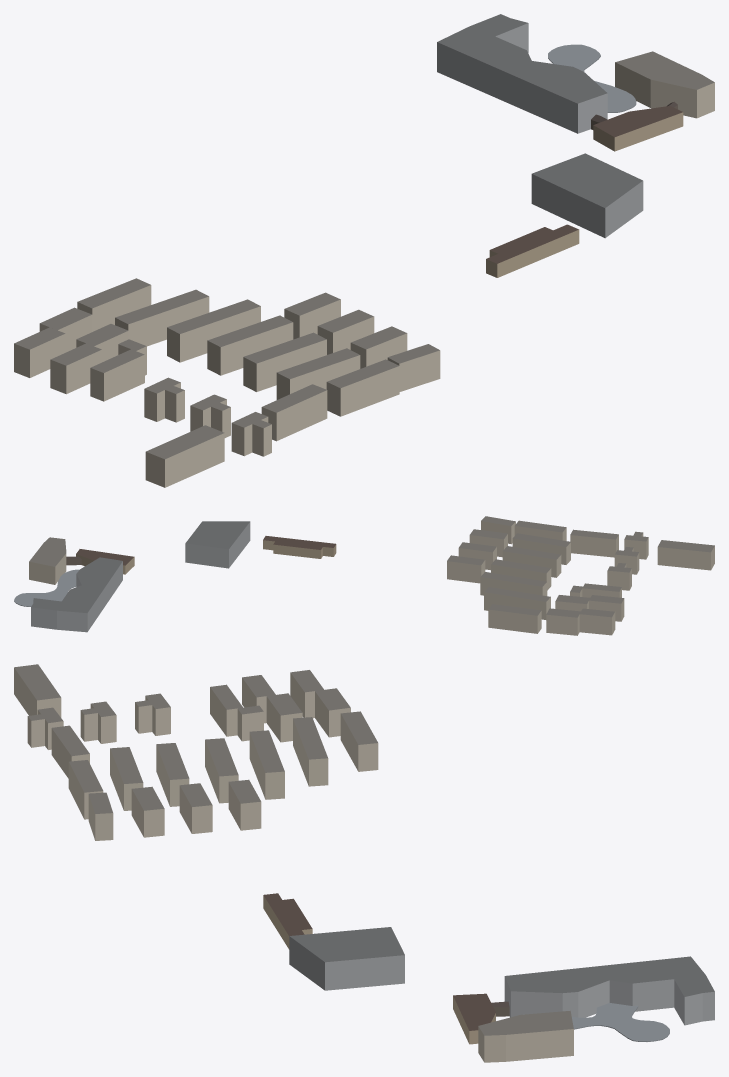
File: tile_4_0.glb
3 views of the same model, one above another, from view 1: azimuth 30°, elevation 25°; view 2: azimuth 150°, elevation 25°; view 3: azimuth 270°, elevation 25° (orthographic). The views are drawn at different scales.
Visible parts, largest first — view 1: HP-w490656161, HP-w985832361, HP-w490656158, HP-w859488670, HP-w859488684, HP-w859488676, HP-w859488683, HP-w859488685, HP-w496382750, HP-w859488682, HP-w490656159, HP-w859488669 (+15 smaller); view 2: HP-w490656161, HP-w985832361, HP-w859488670, HP-w490656158, HP-w859488686, HP-w496382750, HP-w859488685, HP-w859488677, HP-w859488684, HP-w859488682, HP-w859488681, HP-w859488683 (+15 smaller); view 3: HP-w490656161, HP-w985832361, HP-w490656158, HP-w490656165, HP-w859488669, HP-w859488685, HP-w859488684, HP-w859488670, HP-w859488686, HP-w496382750, HP-w859488683, HP-w859488682 (+15 smaller).
Boxes of the visible parts, left/top/right/bottom form: HP-w490656161: left=437, top=14, right=607, bottom=133; HP-w985832361: left=531, top=153, right=643, bottom=238; HP-w490656158: left=615, top=51, right=714, bottom=118; HP-w859488670: left=145, top=425, right=224, bottom=487; HP-w859488684: left=167, top=299, right=260, bottom=362; HP-w859488676: left=326, top=359, right=399, bottom=416; HP-w859488683: left=207, top=315, right=293, bottom=375; HP-w859488685: left=115, top=289, right=209, bottom=346; HP-w496382750: left=486, top=224, right=579, bottom=277; HP-w859488682: left=243, top=332, right=326, bottom=391; HP-w490656159: left=593, top=106, right=683, bottom=151; HP-w859488669: left=90, top=339, right=146, bottom=401; HP-w490656161: left=31, top=557, right=122, bottom=632; HP-w985832361: left=185, top=521, right=250, bottom=568; HP-w859488670: left=657, top=540, right=714, bottom=570; HP-w490656158: left=29, top=537, right=66, bottom=584; HP-w859488686: left=488, top=604, right=541, bottom=633; HP-w496382750: left=263, top=536, right=336, bottom=558; HP-w859488685: left=484, top=587, right=550, bottom=619; HP-w859488677: left=570, top=529, right=618, bottom=557; HP-w859488684: left=480, top=572, right=547, bottom=595; HP-w859488682: left=502, top=546, right=561, bottom=577; HP-w859488681: left=512, top=533, right=570, bottom=564; HP-w859488683: left=491, top=559, right=551, bottom=590; HP-w490656161: left=504, top=956, right=714, bottom=1025; HP-w985832361: left=289, top=927, right=404, bottom=990; HP-w490656158: left=478, top=1010, right=573, bottom=1062; HP-w490656165: left=523, top=1003, right=669, bottom=1041; HP-w859488669: left=210, top=684, right=263, bottom=741; HP-w859488685: left=293, top=717, right=328, bottom=786; HP-w859488684: left=249, top=730, right=284, bottom=799; HP-w859488670: left=14, top=664, right=61, bottom=717; HP-w859488686: left=340, top=711, right=378, bottom=771; HP-w496382750: left=263, top=893, right=312, bottom=949; HP-w859488683: left=205, top=738, right=238, bottom=803; HP-w859488682: left=156, top=743, right=189, bottom=806.
Bounding box in the file's own units: 532 × 19 × 424.
